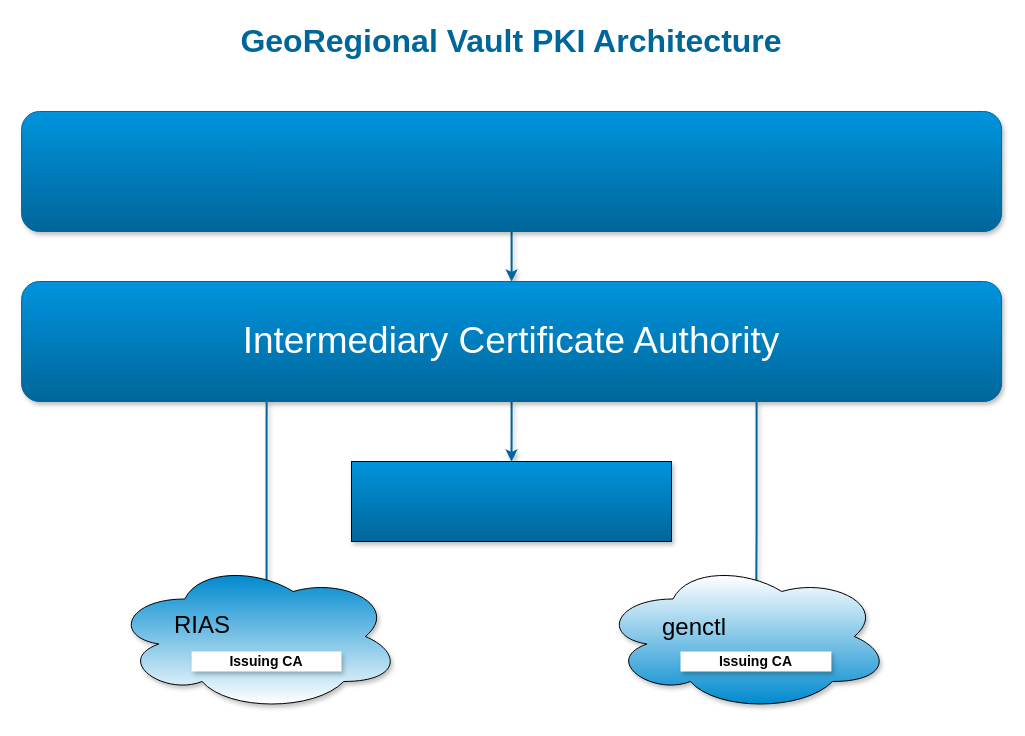
Some shapes in this 1025 by 736 pixel diagram are drawn without their labels. Here are the shapes that lost their labels. From the top down, the centre of each, then its label:
At (512,172): "Root Certificate Authority".
At (512,502): "NG Services (Network, Proxies, etc.)".
